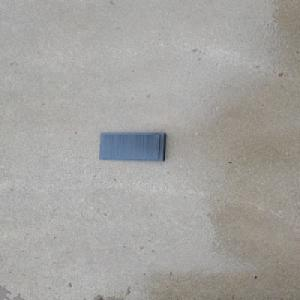PlasticPart: (97, 131, 167, 161)
